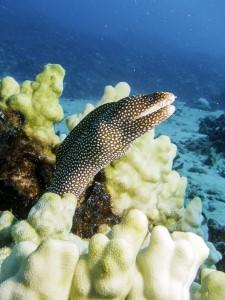bleached_corals: (1, 131, 209, 300), (2, 65, 63, 136)
